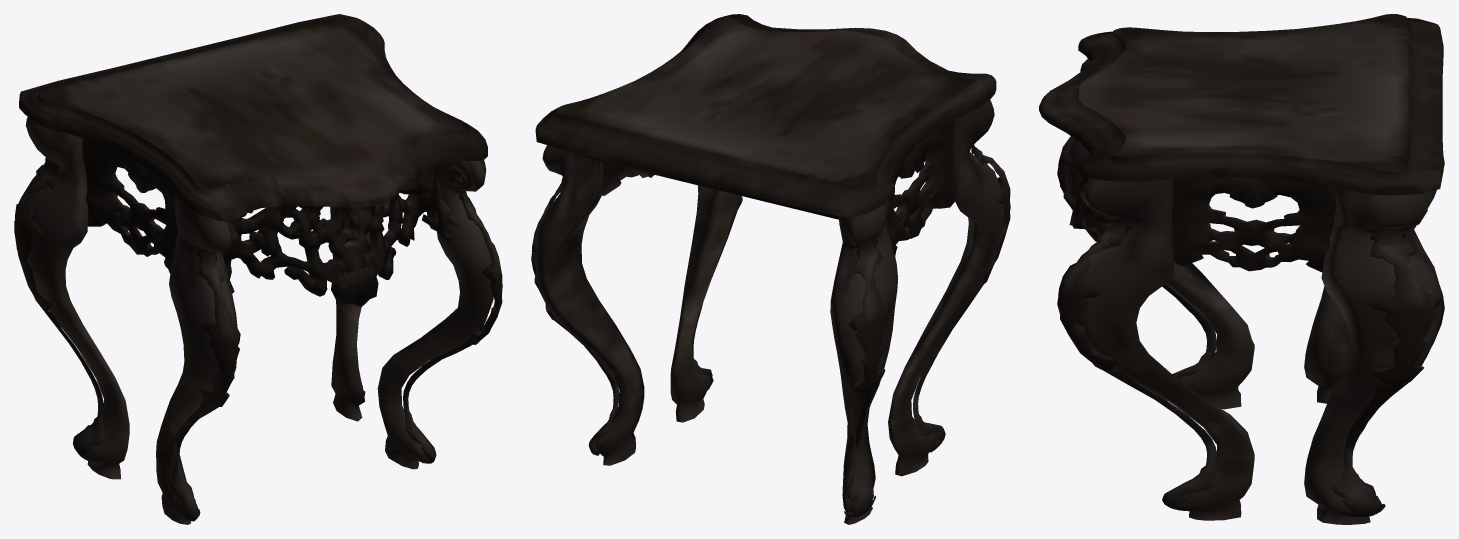
The model's file is ph-classicconsole-01.glb.
The picture shows the model from 3 angles, left to right: view 1: azimuth 30°, elevation 25°; view 2: azimuth 150°, elevation 25°; view 3: azimuth 270°, elevation 25°; orthographic projection. The views are drawn at different scales.
Parts seen in each view (by area): view 1: ClassicConsole_01; view 2: ClassicConsole_01; view 3: ClassicConsole_01.
Part boxes in pixels (x1,y1,x2,y2): ClassicConsole_01: (14,14,502,524); ClassicConsole_01: (531,14,1010,524); ClassicConsole_01: (1039,14,1444,524).
Bounding box in the file's own units: 1 × 1 × 1.
1 material, 1 textured.
